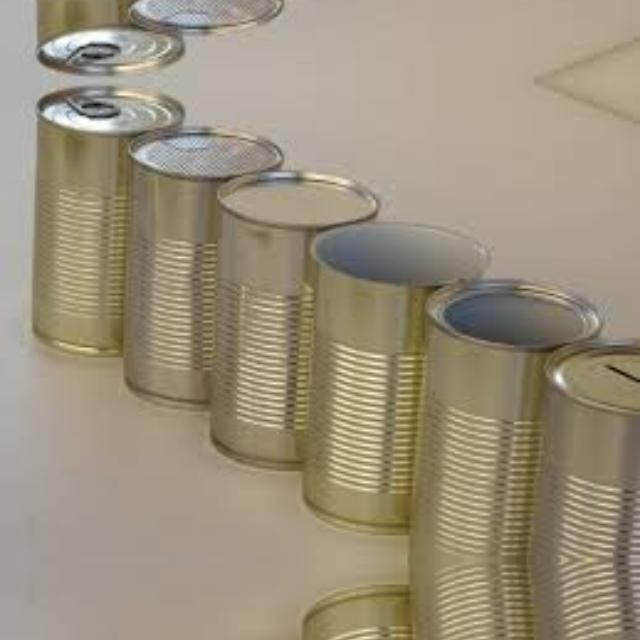Metal: (300, 219, 492, 536), (410, 277, 602, 559), (212, 170, 380, 472), (120, 125, 284, 413), (28, 85, 185, 358), (523, 335, 640, 559), (409, 560, 602, 640), (28, 0, 185, 75), (299, 582, 492, 640), (523, 559, 640, 640), (119, 0, 284, 35)
